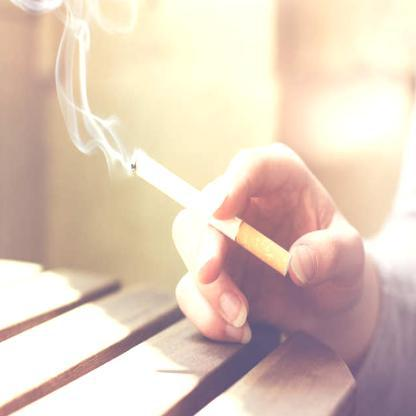cigarette: (129, 148, 294, 278)
smoke: (53, 0, 102, 164)
